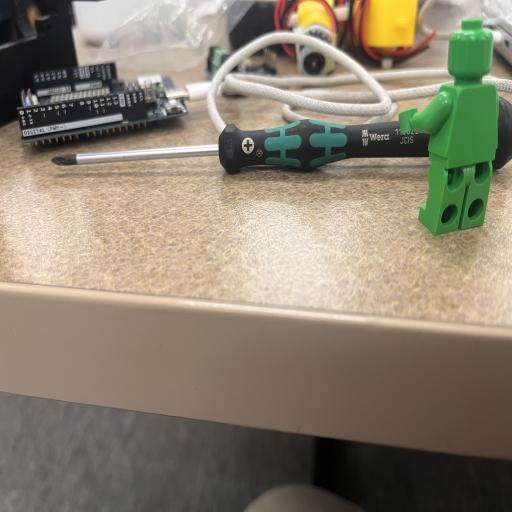Lego-Minifig: (419, 157, 491, 235)
